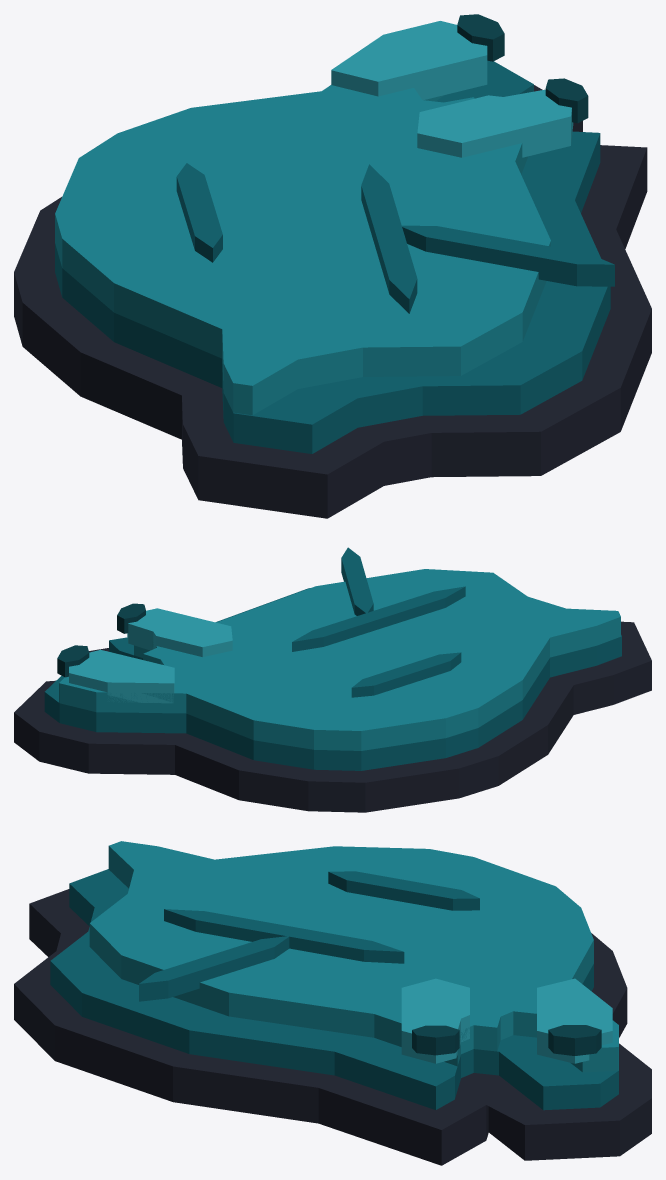
File: dragon_heart.fbx
The picture shows the model from 3 angles, top to bottom: view 1: azimuth 30°, elevation 25°; view 2: azimuth 150°, elevation 25°; view 3: azimuth 270°, elevation 25°; orthographic projection. The views are drawn at different scales.
Visible parts, largest first — view 1: dragon_heart; view 2: dragon_heart; view 3: dragon_heart.
Part boxes in pixels (x1,y1,x2,y2): dragon_heart: [14, 14, 651, 518]; dragon_heart: [14, 547, 651, 812]; dragon_heart: [14, 841, 651, 1165].
Bounding box in the file's own units: 0.9262 × 0.17 × 0.9708.
Materials: 1 (1 with a texture image).
